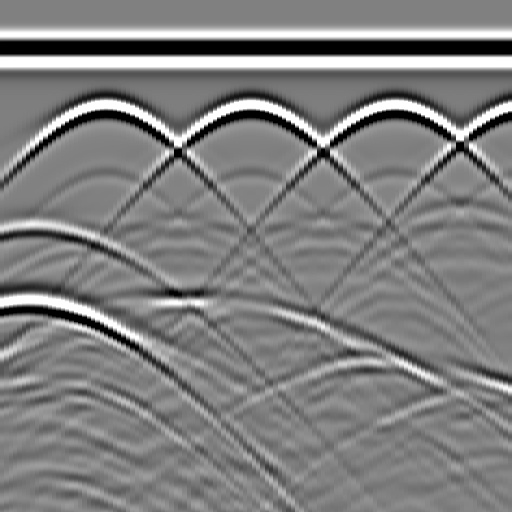grout_surface: (1, 210, 512, 240)
rebar: (84, 88, 124, 128), (228, 88, 268, 128), (372, 88, 412, 128), (502, 88, 512, 128)
rock_surface: (1, 299, 511, 395)
water_void: (1, 203, 61, 243)
